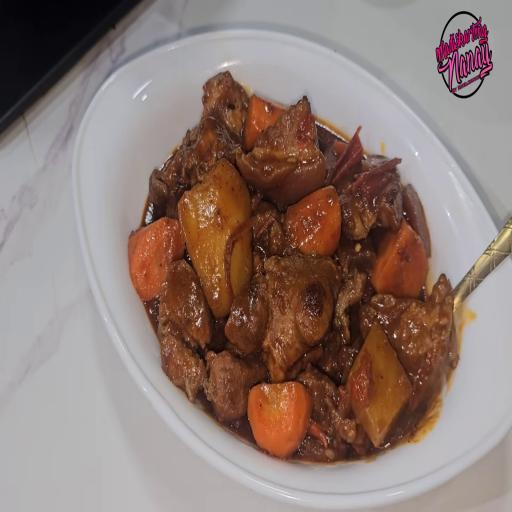pork caldereta: (112, 68, 438, 462)
